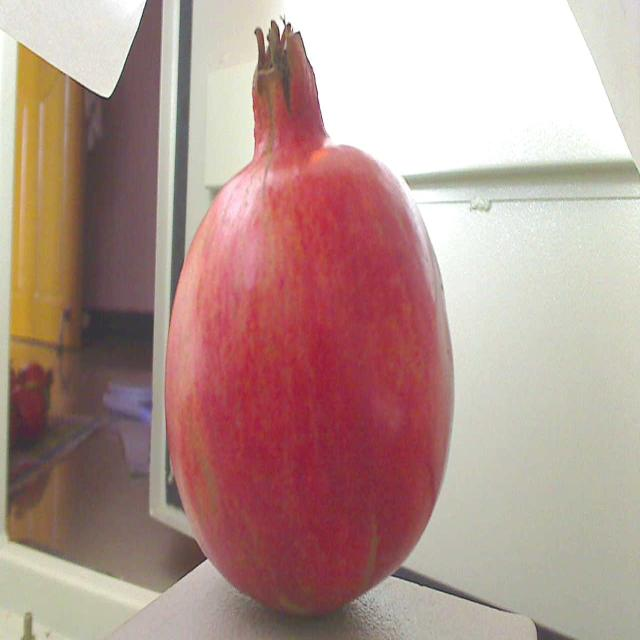pomegranate: (150, 11, 461, 640)
